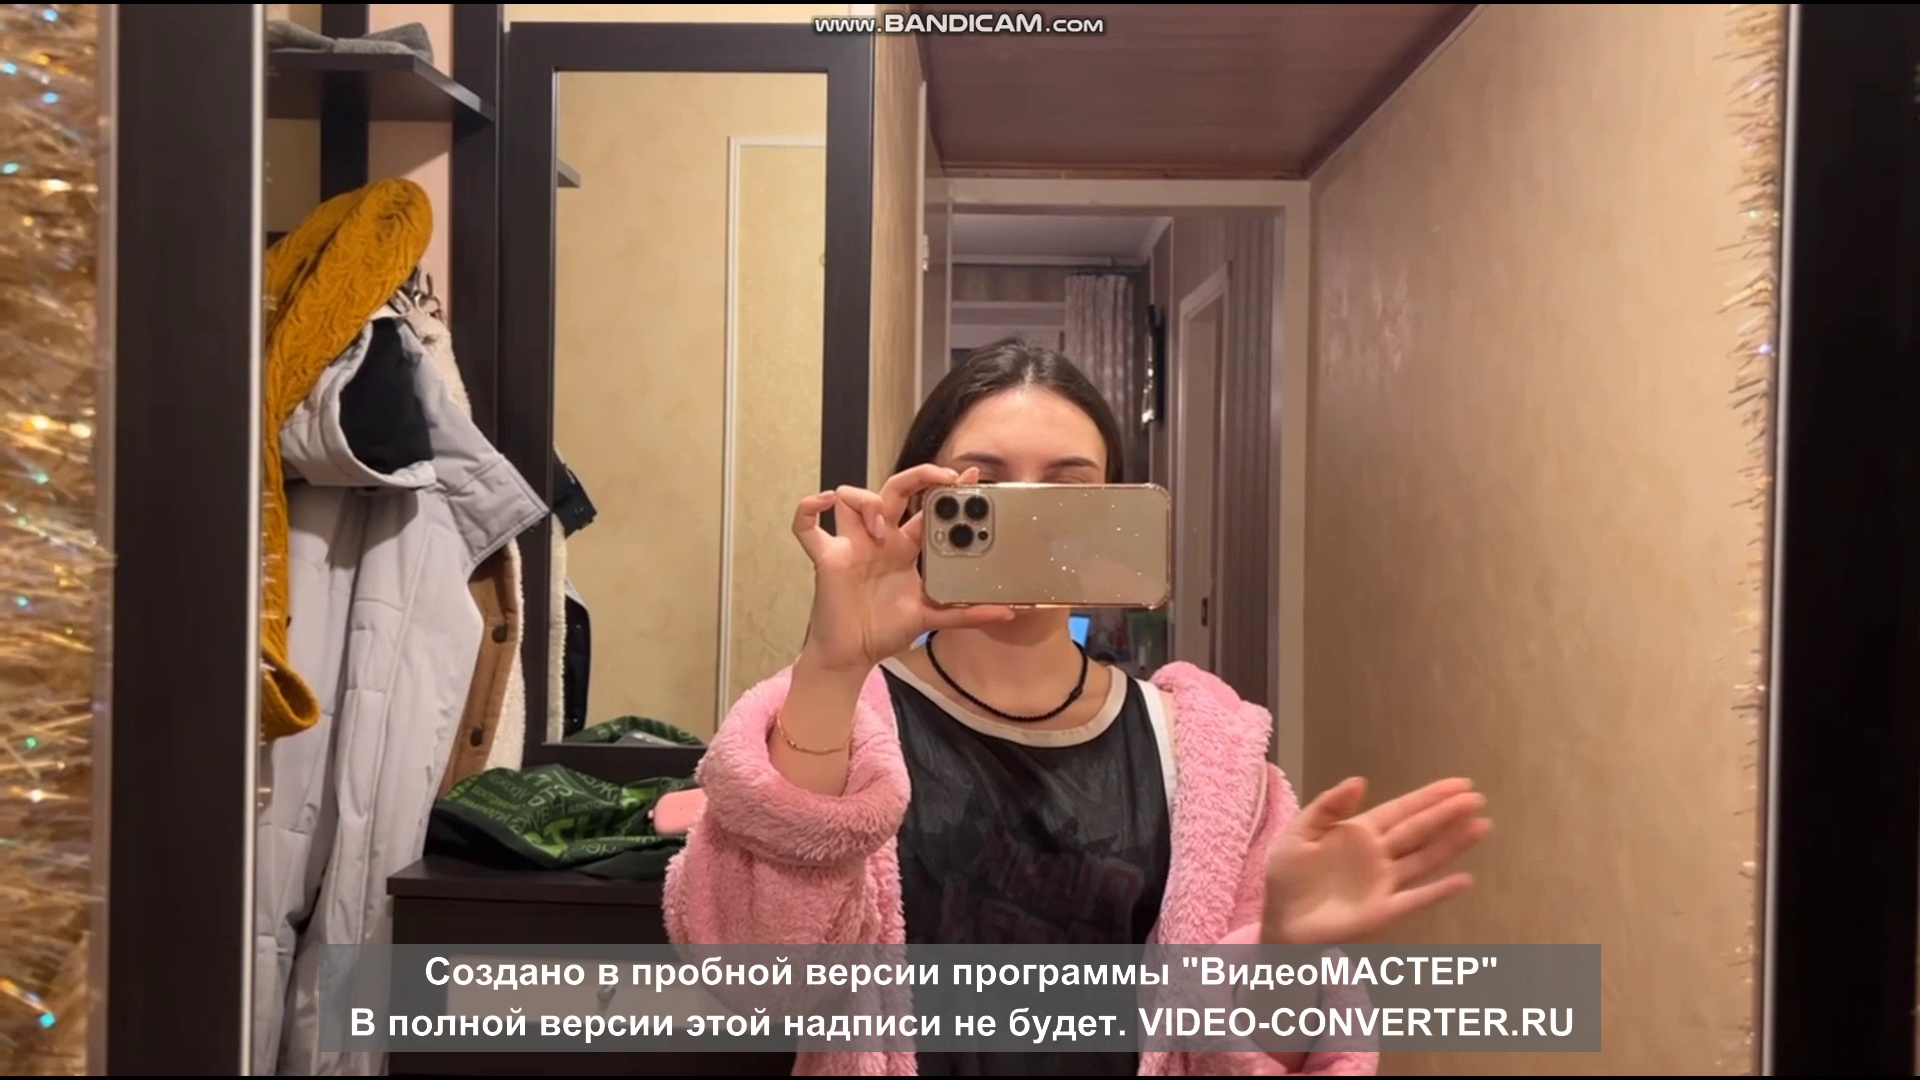Ладонь: (1258, 773, 1495, 939)
